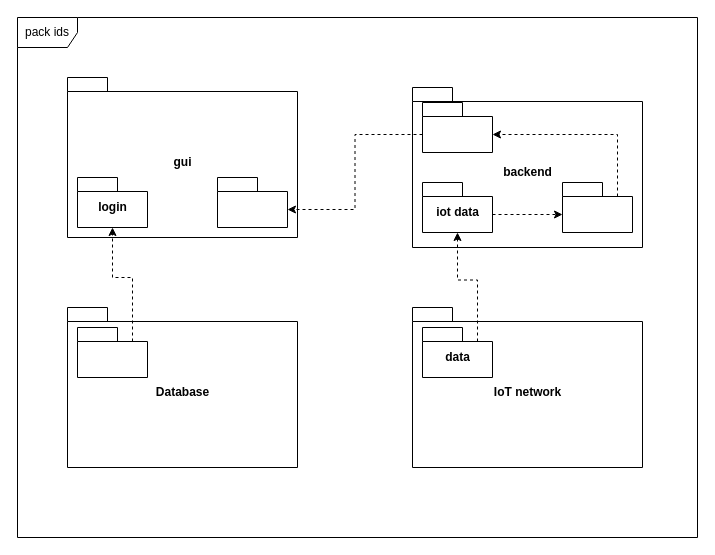
Image size: 715x555. Some labels were removed from this diagram. The shapes that lost their labels are listed below. From the top down, each one's centre as x and y in pixels, then its label:
point 457,127: classifier
point 252,202: notification
point 597,207: model
point 112,352: login data
